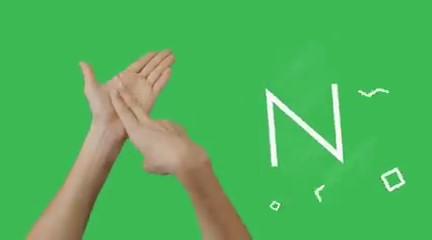N: (65, 41, 231, 190)
